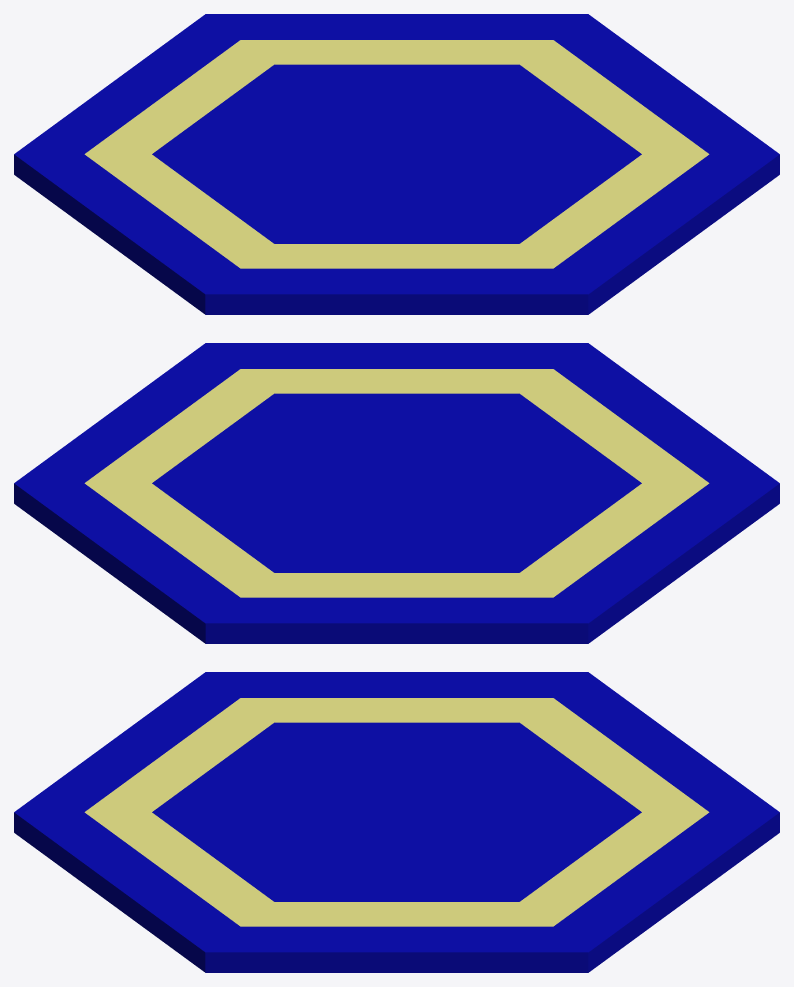
Rendered from Coaster.glb.
The picture shows the model from 3 angles, top to bottom: view 1: azimuth 30°, elevation 25°; view 2: azimuth 150°, elevation 25°; view 3: azimuth 270°, elevation 25°; orthographic projection.
Visible parts, largest first — view 1: Cylinder; view 2: Cylinder; view 3: Cylinder.
Part boxes in pixels (left/top/right/bottom): Cylinder: left=14, top=14, right=779, bottom=314; Cylinder: left=14, top=343, right=779, bottom=643; Cylinder: left=14, top=672, right=779, bottom=972.
Size of the model in its own units: 0.1767 by 0.006 by 0.204.
